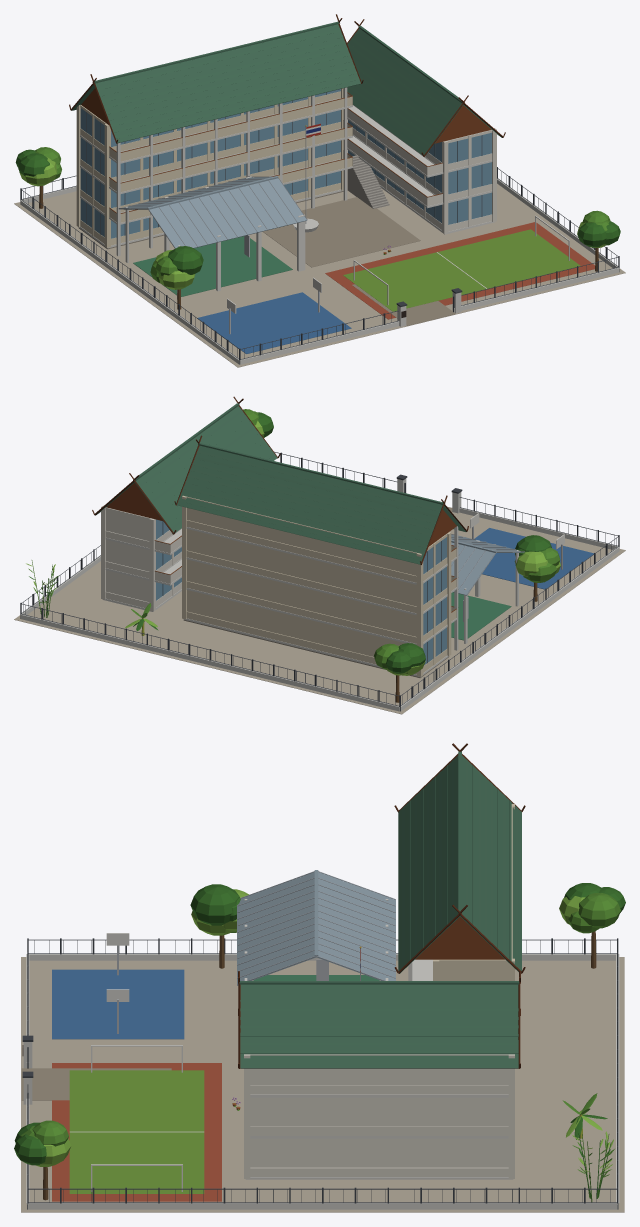
Rendered from school.glb.
3 renders of one model, top to bottom at view 1: azimuth 30°, elevation 25°; view 2: azimuth 150°, elevation 25°; view 3: azimuth 270°, elevation 25°, orthographic. The views are drawn at different scales.
Visible parts, largest first — view 1: body; view 2: body; view 3: body.
Part boxes in pixels (x1,y1,x2,y2): body: (14,14,625,367); body: (14,396,625,714); body: (14,743,625,1212).
Size of the model in its own units: 48.79 by 20.06 by 48.57.
